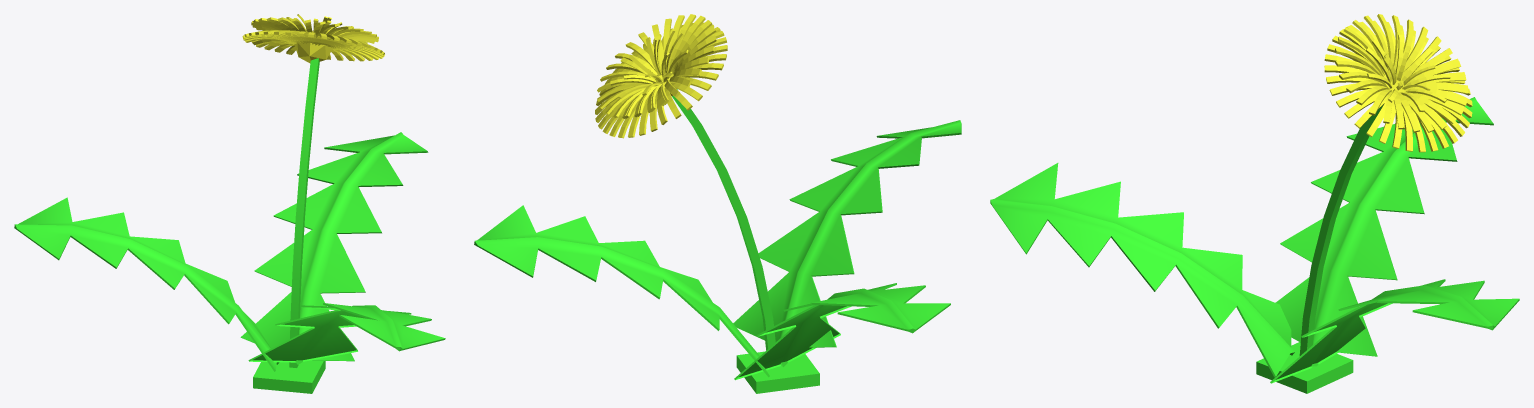
File: dand.fbx
3 views of the same model, side by side, from view 1: azimuth 30°, elevation 25°; view 2: azimuth 150°, elevation 25°; view 3: azimuth 270°, elevation 25° (orthographic). The views are drawn at different scales.
Visible parts, largest first — view 1: Object034; view 2: Object034; view 3: Object034.
Boxes of the visible parts, bbox=[...] form: Object034: bbox=[14, 14, 445, 393]; Object034: bbox=[474, 14, 961, 393]; Object034: bbox=[990, 14, 1519, 393].
Bounding box in the file's own units: 48.33 × 38.88 × 49.63.
